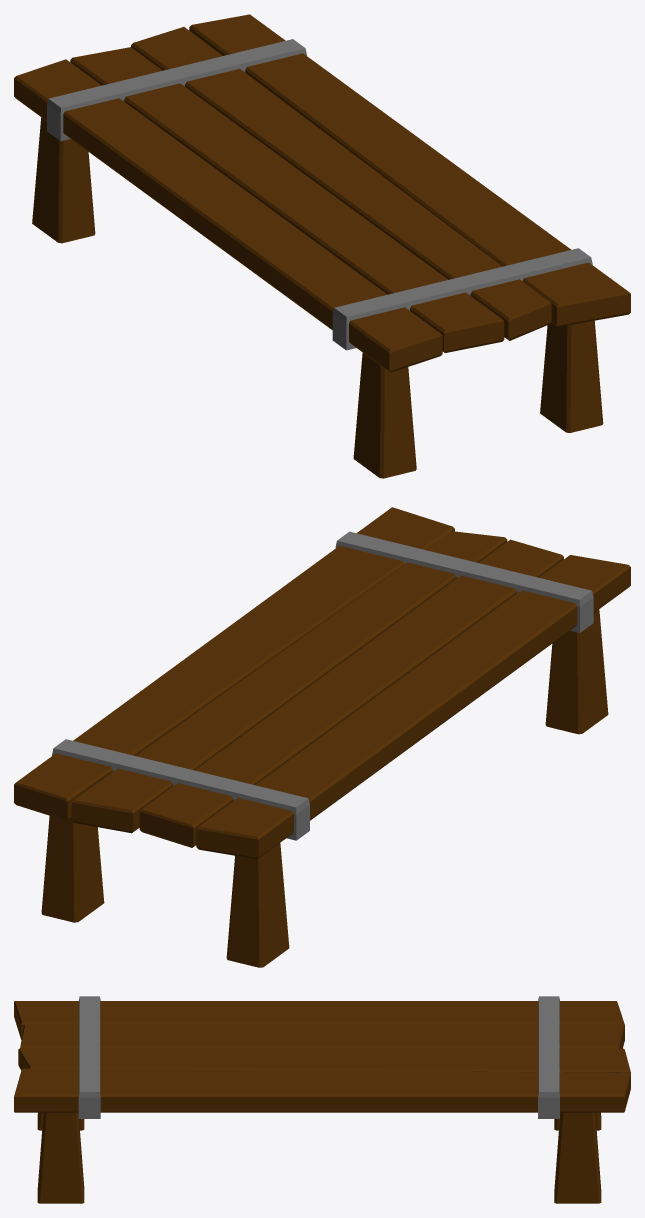
File: Table.fbx
3 renders of one model, top to bottom at view 1: azimuth 30°, elevation 25°; view 2: azimuth 150°, elevation 25°; view 3: azimuth 270°, elevation 25°, orthographic. The views are drawn at different scales.
Visible parts, largest first — view 1: pCube16; view 2: pCube16; view 3: pCube16.
Boxes of the visible parts, x1,y1,x2,y2 form: pCube16: [14, 14, 630, 478]; pCube16: [14, 507, 630, 967]; pCube16: [14, 996, 630, 1203].
Size of the model in its own units: 398 by 224 by 1075.
